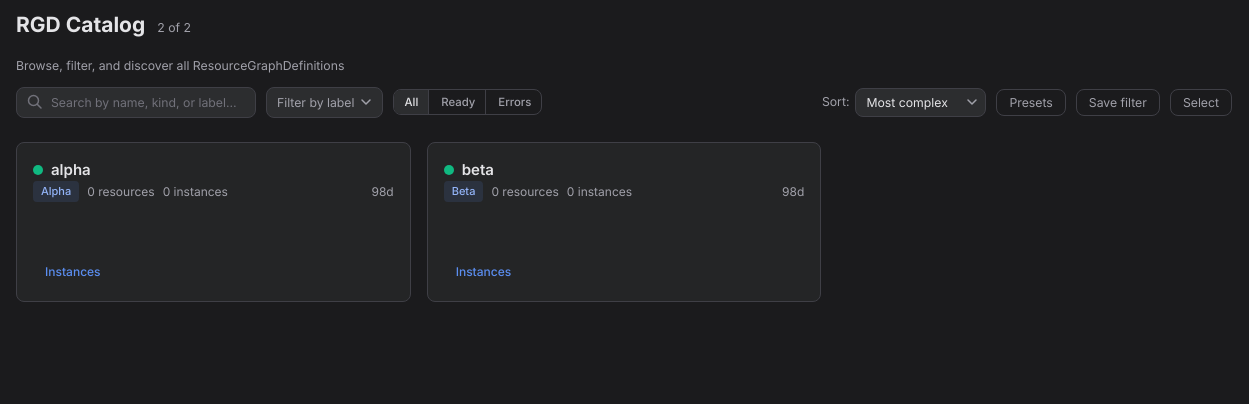
Test: Catalog filter presets › shows inline save form when "Save filter" is clicked
Check: the element with test id "catalog-card-alpha" is shown, box [16,142,411,302]
Click the button with test id "catalog-status-errors" at (515, 102), box [488,90,541,114]
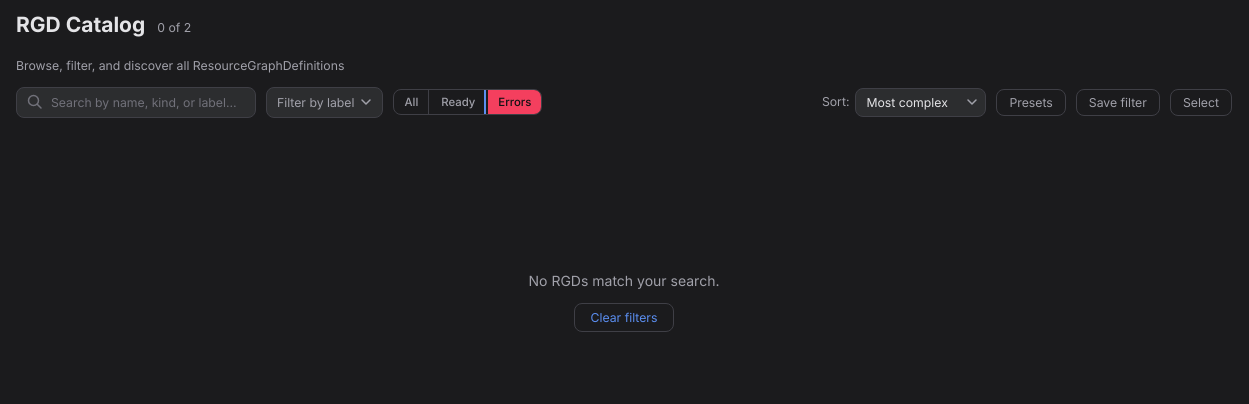
Click the button with test id "catalog-save-filter" at (1118, 102), box [1076,89,1160,116]
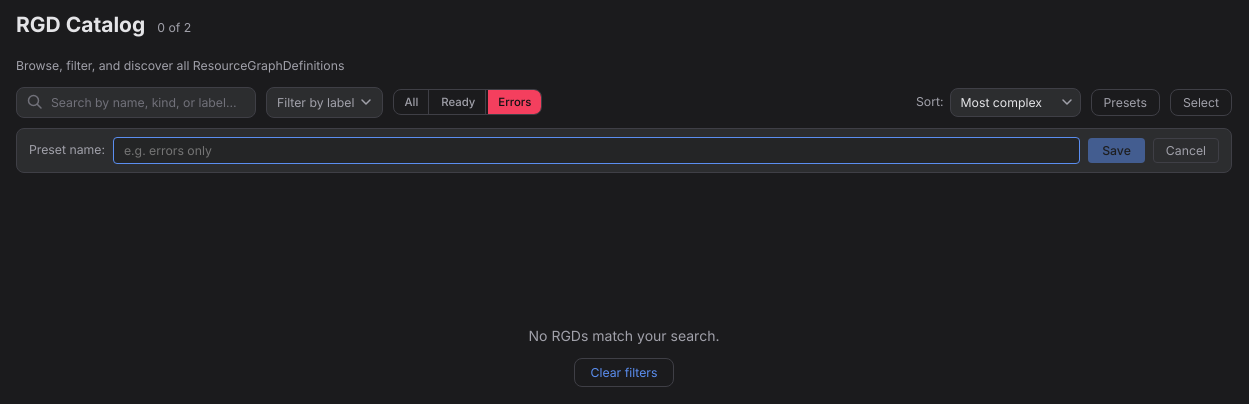
Check: the element with test id "catalog-save-form" is shown, box [16,128,1232,173]
Check: the field with test id "catalog-preset-name-input" is shown, box [113,137,1080,164]
